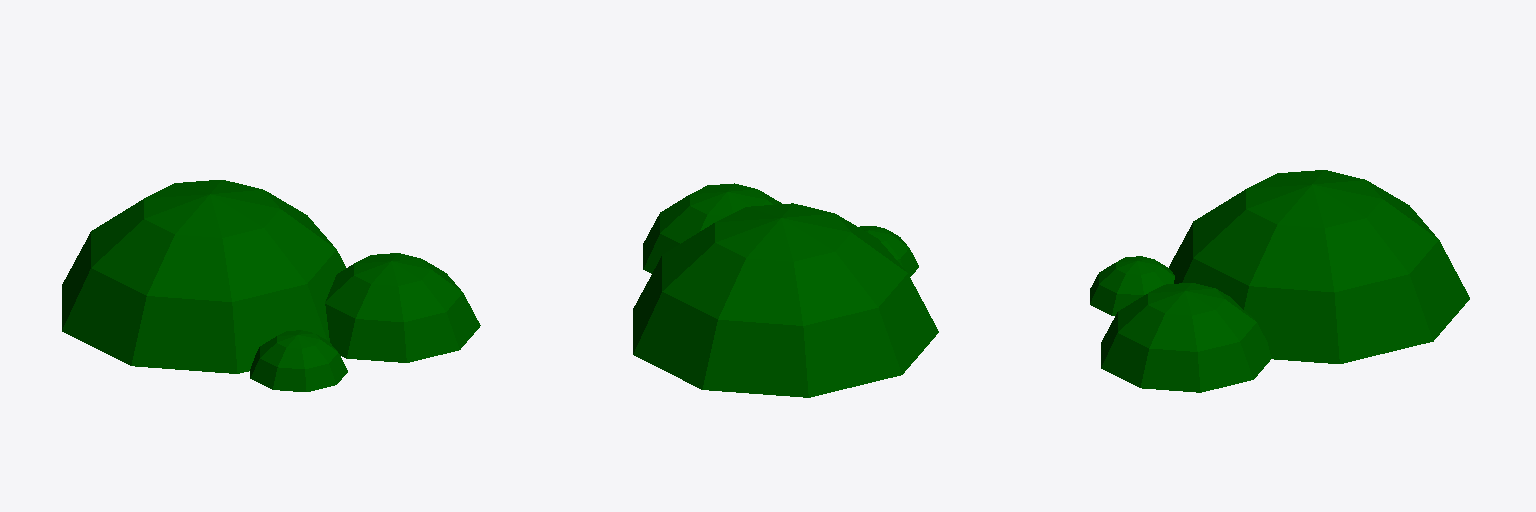
File: slime.obj
3 views of the same model, side by side, from view 1: azimuth 30°, elevation 25°; view 2: azimuth 150°, elevation 25°; view 3: azimuth 270°, elevation 25° (orthographic).
Visible parts, largest first — view 1: Slime; view 2: Slime; view 3: Slime.
Boxes of the visible parts, x1,y1,x2,y2 form: Slime: [62, 180, 480, 391]; Slime: [633, 183, 938, 397]; Slime: [1090, 170, 1469, 392].
Bounding box in the file's own units: 2.34 × 0.7775 × 2.35.